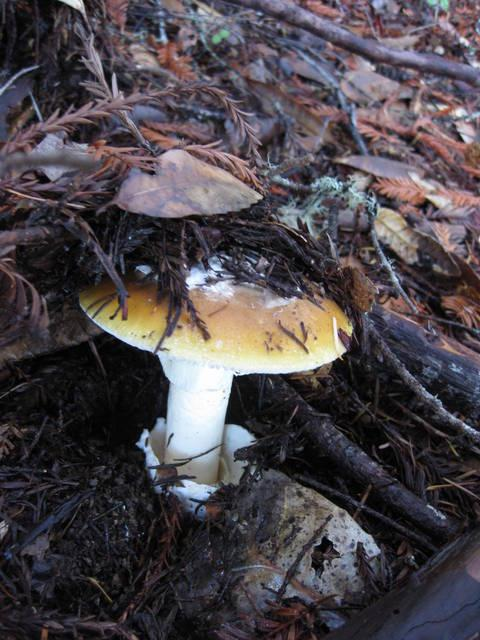Edible Mushroom: (77, 261, 354, 520)
